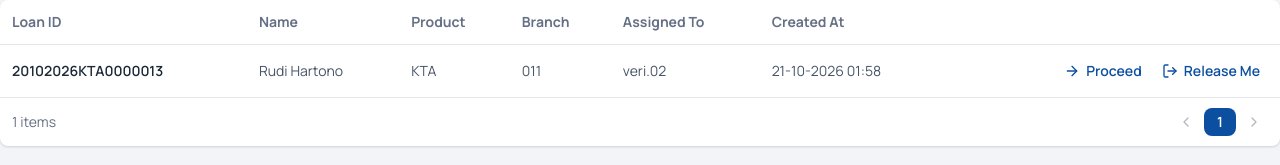
Test case: TaskQueue › AC-58.03 releases my task and clears Assigned To
Click the button "Release Me": point(1211, 71) 1154,57 -> 1268,85
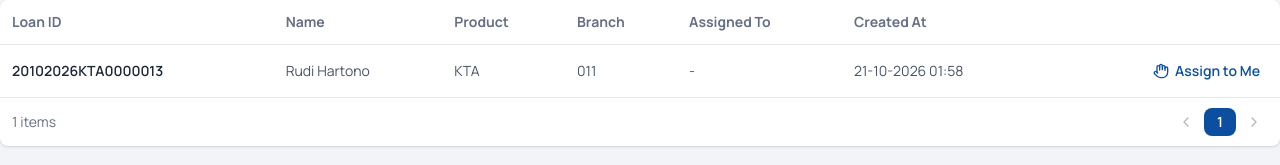
Expected: the button "Assign to Me" is shown, 1145,57 -> 1268,85
Expected: the row "20102026KTA0000013" no longer shows "veri.02", 0,44 -> 1279,97
